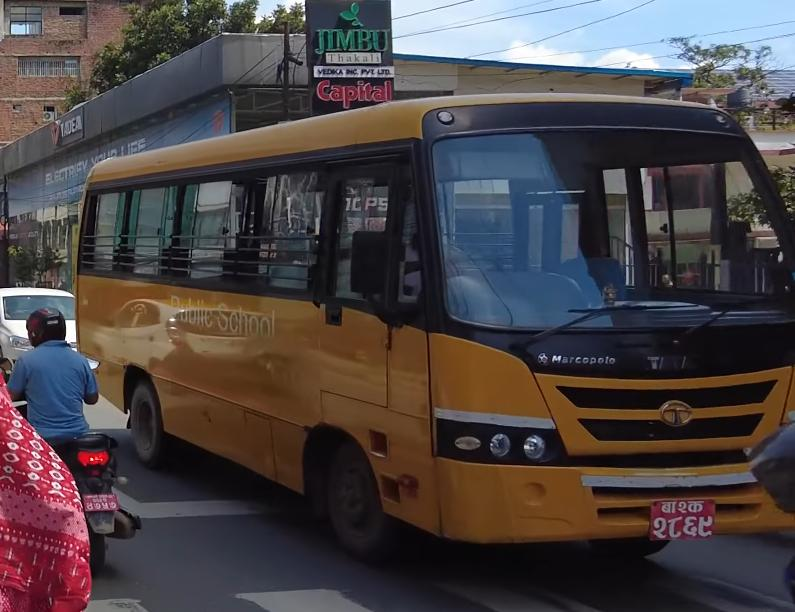school_bus: (68, 84, 795, 571)
